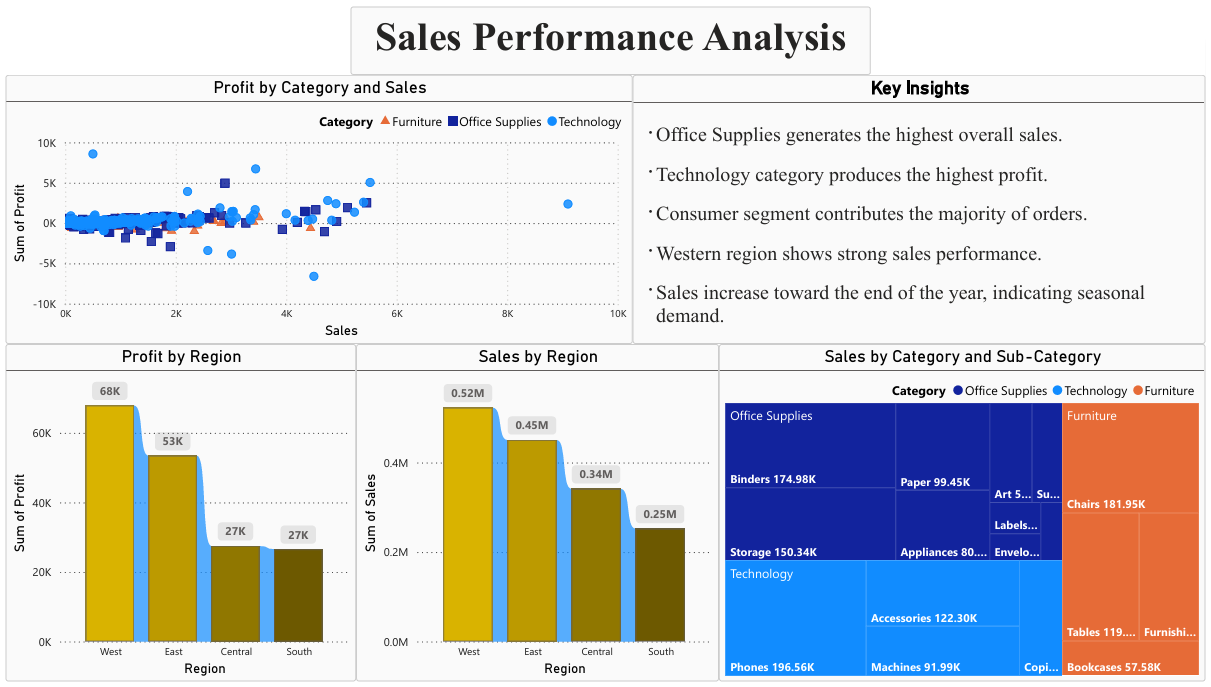

The page's visual inventory and layout, read from the dashboard file:
{"tool":"powerbi","page":{"name":"Sales Analysis Page","canvas":[1280,720],"ordinal":1},"visuals":[{"type":"columnChart","title":"Sales by Region","fields":{"Category":["SuperStore_Sales_Dataset.Region"],"Y":["Sum(SuperStore_Sales_Dataset.Sales)"]},"box":[373.8,360,387.5,360],"z":0},{"type":"columnChart","title":"Profit by Region","fields":{"Y":["Sum(SuperStore_Sales_Dataset.Profit)"],"Category":["SuperStore_Sales_Dataset.Region"]},"box":[0,360,373.8,360],"z":1000},{"type":"scatterChart","title":"Profit by Category and Sales","fields":{"X":["SuperStore_Sales_Dataset.Sales"],"Series":["SuperStore_Sales_Dataset.Category"],"Y":["Sum(SuperStore_Sales_Dataset.Profit)"]},"box":[0,72.5,668.8,287.5],"z":2000},{"type":"treemap","title":"Sales by Category and Sub-Category","fields":{"Values":["Sum(SuperStore_Sales_Dataset.Sales)"],"Details":["SuperStore_Sales_Dataset.Sub-Category"],"Group":["SuperStore_Sales_Dataset.Category"]},"box":[761.2,360,518.8,360],"z":3000},{"type":"textbox","title":"Key Insights","box":[668.8,72.5,611.2,287.5],"z":4000},{"type":"textbox","box":[367.5,0,555,72.5],"z":5000}]}

Visuals, with their boxes in screenshot pixels (x1, y1, x2, y2), scaled from the page's 1280x720 canvas onto the 1211x687 screenshot:
"Sales by Region" columnChart: detection(354, 344, 720, 686)
"Profit by Region" columnChart: detection(0, 344, 354, 686)
"Profit by Category and Sales" scatterChart: detection(0, 69, 633, 344)
"Sales by Category and Sub-Category" treemap: detection(720, 344, 1210, 686)
"Key Insights" textbox: detection(633, 69, 1210, 344)
textbox: detection(348, 0, 873, 69)
